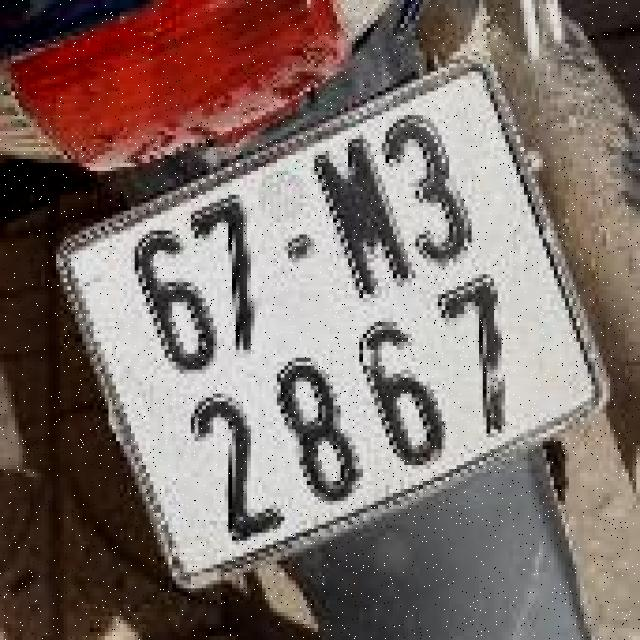2: (174, 391, 303, 575)
3: (351, 99, 466, 286)
6: (333, 299, 459, 483), (104, 226, 226, 403)
7: (401, 244, 536, 447), (158, 194, 279, 384)
8: (258, 339, 375, 535)
M: (277, 125, 411, 315)
